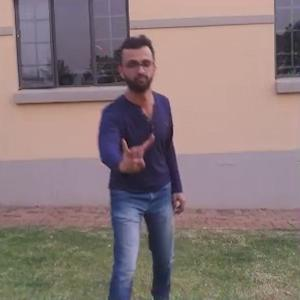takeoff-hand: (113, 127, 159, 179)
